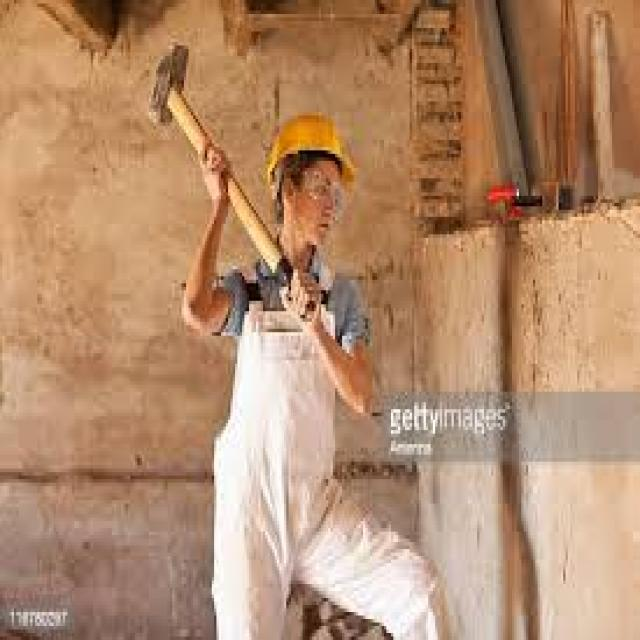hammer: (146, 33, 298, 296)
